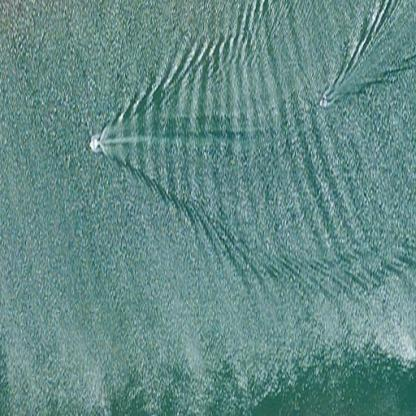ship: (313, 90, 331, 110), (85, 133, 103, 152)
